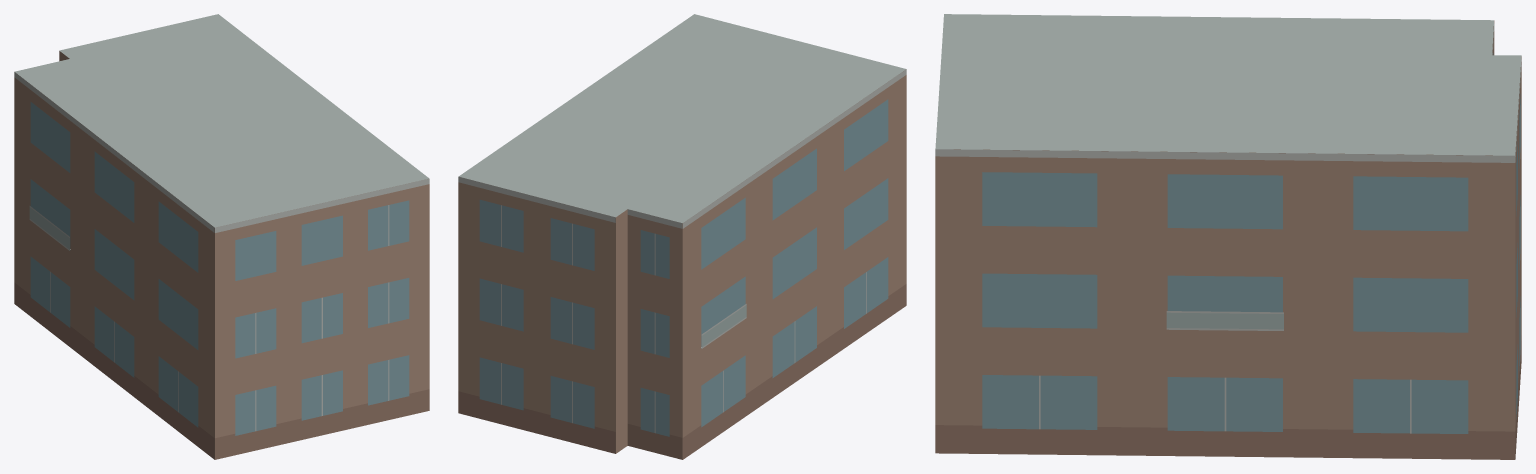
The model's file is survey-upis-32835349.glb.
3 views of the same model, side by side, from view 1: azimuth 30°, elevation 25°; view 2: azimuth 150°, elevation 25°; view 3: azimuth 270°, elevation 25° (orthographic). The views are drawn at different scales.
Visible parts, largest first — view 1: survey-upis-32835349.tmp; view 2: survey-upis-32835349.tmp; view 3: survey-upis-32835349.tmp.
Boxes of the visible parts, bbox=[...] form: survey-upis-32835349.tmp: bbox=[14, 14, 429, 459]; survey-upis-32835349.tmp: bbox=[458, 14, 906, 459]; survey-upis-32835349.tmp: bbox=[935, 14, 1521, 459].
Size of the model in its own units: 10.2 by 10.2 by 17.83.
